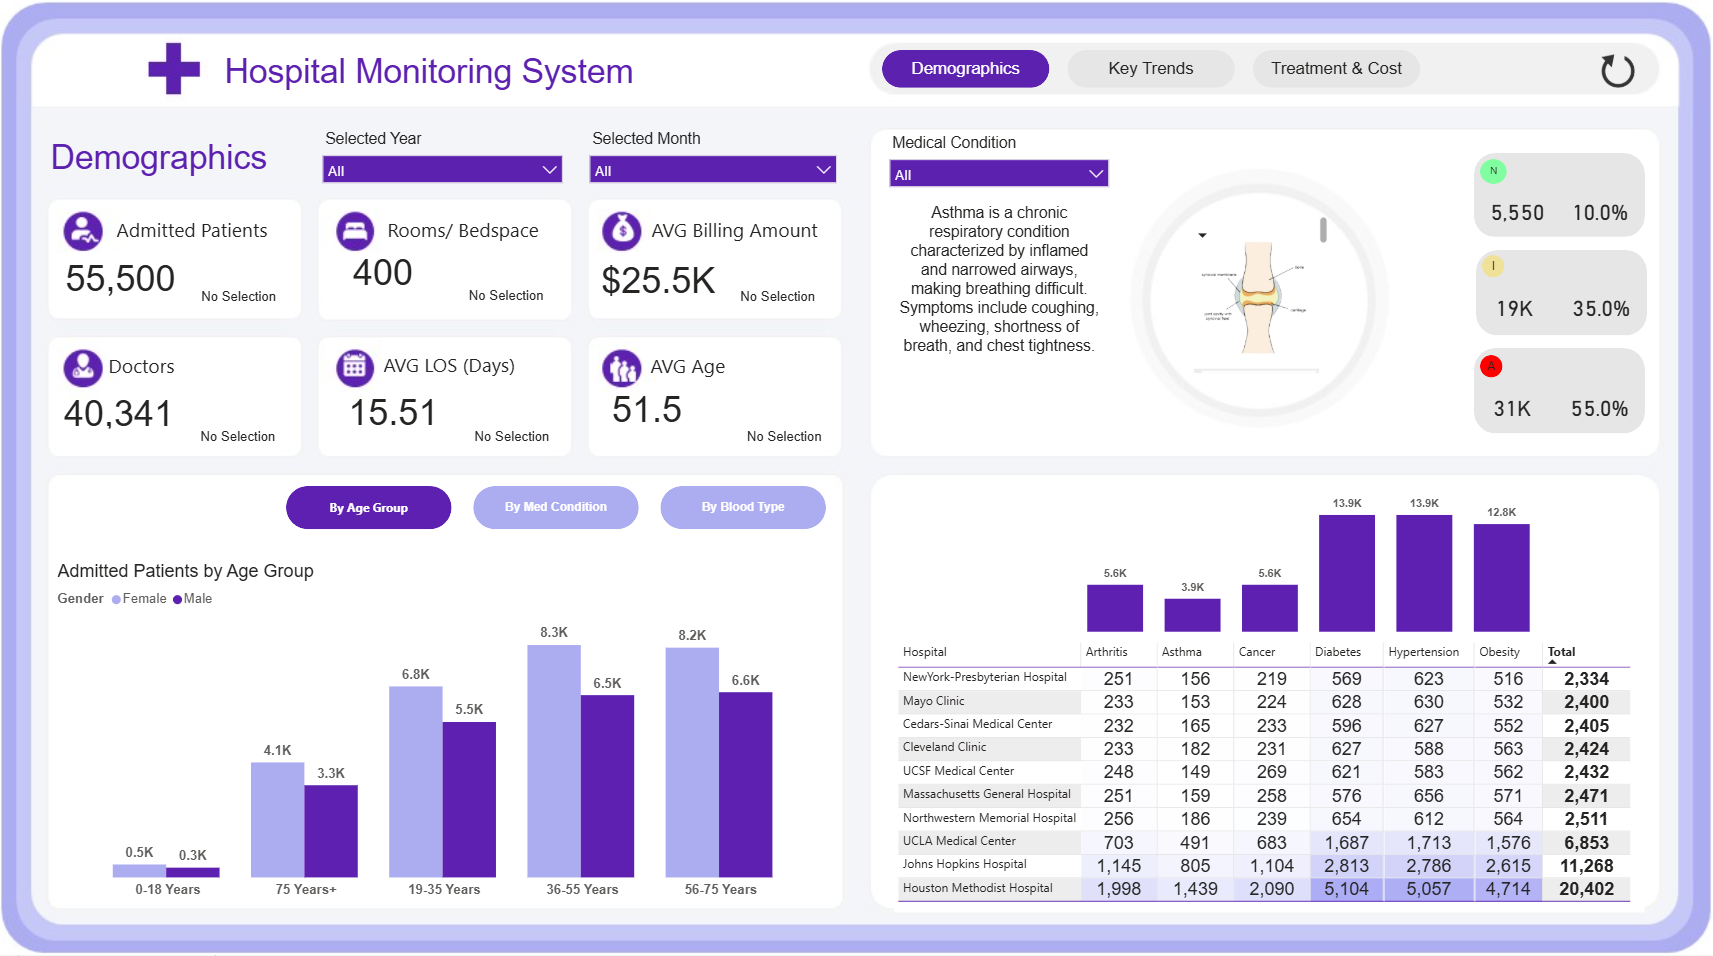

The page's visual inventory and layout, read from the dashboard file:
{"tool":"powerbi","page":{"name":"Demographics","canvas":[1920,1080],"ordinal":0},"visuals":[{"type":"card","fields":{"Values":["_DaxMeasures.Admitted Patients"]},"box":[55.7,281.4,174.3,68.6],"z":0},{"type":"shape","box":[1649,285.4,190,95],"z":0,"group":"g4"},{"type":"shape","box":[1646.7,394.2,190,95],"z":0,"group":"g5"},{"type":"textbox","box":[132.9,242.9,194.3,38.6],"z":1000},{"type":"group","id":"g1","title":"Group 2","box":[1655.9,288.3,25.6,28.1],"z":1000,"group":"g4"},{"type":"group","id":"g2","title":"Group 2","box":[1653.2,399.7,25.6,28.1],"z":1000,"group":"g5"},{"type":"textbox","box":[434.3,242.9,194.3,38.6],"z":2000},{"type":"textbox","box":[727.5,243.4,203.5,38.6],"z":3000},{"type":"textbox","box":[124.3,394.3,202.9,38.6],"z":4000},{"type":"textbox","box":[429.6,393.7,218.1,38.6],"z":5000},{"type":"textbox","box":[727.1,394.3,202.9,38.6],"z":6000},{"type":"slicer","fields":{"Values":["Dim_Date.Year"]},"box":[362,152.4,276.7,73.2],"z":7000},{"type":"slicer","fields":{"Values":["Dim_Date.Month Name"]},"box":[658.6,152.4,284.6,73.2],"z":8000},{"type":"slicer","fields":{"Values":["DimMedicalCondition.Medical Condition"]},"box":[992.2,156.9,254,73.2],"z":9000},{"type":"cardVisual","fields":{"Data":["Min(DimMedicalCondition.Descriptions)"]},"box":[992.2,214.1,254,295.3],"z":10000},{"type":"card","fields":{"Values":["_DaxMeasures.admission YoY"]},"box":[204.8,315.4,139.3,46.4],"z":11000},{"type":"card","fields":{"Values":["_DaxMeasures.Billing YoY"]},"box":[800.2,316.8,146.1,45.1],"z":12000},{"type":"card","fields":{"Values":["_DaxMeasures.AVG Billing Amount"]},"box":[652.7,279.9,176.2,75.1],"z":13000},{"type":"card","fields":{"Values":["_DaxMeasures.Room"]},"box":[356.4,279.9,155.7,57.4],"z":14000},{"type":"card","fields":{"Values":["_DaxMeasures.Room YoY"]},"box":[495.7,315.4,151.6,43.7],"z":15000},{"type":"card","fields":{"Values":["_DaxMeasures.Doctor"]},"box":[66.9,439.7,148.8,49.2],"z":16000},{"type":"card","fields":{"Values":["_DaxMeasures.Doctor YoY"]},"box":[202.1,479.3,142,30],"z":17000},{"type":"card","fields":{"Values":["_DaxMeasures.AVG LOS(Days)"]},"box":[363.2,434.3,165.2,60.1],"z":18000},{"type":"card","fields":{"Values":["_DaxMeasures.AVG Age"]},"box":[662.3,434.3,131.1,53.3],"z":19000},{"type":"card","fields":{"Values":["_DaxMeasures.AVG LOS (Days) YoY"]},"box":[512.1,479.3,131.1,30],"z":20000},{"type":"card","fields":{"Values":["_DaxMeasures.AVG age YoY"]},"box":[819.3,479.3,122.9,30],"z":21000},{"type":"pivotTable","fields":{"Rows":["HealthStateData.Hospital"],"Columns":["DimMedicalCondition.Medical Condition"],"Values":["_DaxMeasures.Admitted Patients"]},"box":[1002.5,716.2,833.8,305],"z":22000},{"type":"clusteredColumnChart","fields":{"Y":["_DaxMeasures.Admitted Patients"],"Category":["DimMedicalCondition.Medical Condition"]},"box":[1212.5,546.2,503.8,168.8],"z":23000},{"type":"clusteredColumnChart","title":"Admitted Patients by Age Group","fields":{"Category":["HealthStateData.Age Group"],"Y":["_DaxMeasures.Admitted Patients"],"Series":["HealthStateData.Gender"]},"box":[67.5,631.2,870,381.2],"z":26000},{"type":"bookmarkNavigator","box":[326.2,547.5,601.2,48.8],"z":27000},{"type":"group","id":"g3","title":"Group 1","box":[1646.7,178.2,190,93.5],"z":28000},{"type":"shape","box":[1653.7,185.6,29.8,27.8],"z":29000,"group":"g6"},{"type":"group","id":"g4","title":"Group 3","box":[1649,285.4,190,95],"z":29000},{"type":"shape","box":[1656.3,290.6,25,25],"z":29000,"group":"g1"},{"type":"shape","box":[1653.6,402,25,25],"z":29000,"group":"g2"},{"type":"shape","box":[1646.7,178.2,190,93.5],"z":30000,"group":"g3"},{"type":"group","id":"g5","title":"Group 3","box":[1646.7,394.2,190,95],"z":30000},{"type":"textbox","box":[60,157.1,295.7,57.1],"z":31000},{"type":"pageNavigator","box":[988.6,62.9,600,42.9],"z":32000},{"type":"textbox","box":[1653.2,183.1,30.1,30.9],"z":32000,"group":"g6"},{"type":"textbox","box":[1655.9,288.3,25.2,27.8],"z":32000,"group":"g1"},{"type":"textbox","box":[1653.2,399.7,25.2,27.8],"z":32000,"group":"g2"},{"type":"group","id":"g6","title":"Group 2","box":[1653.2,183.1,30.6,30.6],"z":32500,"group":"g3"},{"type":"textbox","box":[252.9,61.4,488.6,57.1],"z":33000},{"type":"image","box":[1772.9,62.9,67.1,47.1],"z":34000},{"type":"tableEx","fields":{"Values":["Medical Conditions Photos.Images"]},"box":[1328.7,243.4,159.6,183.5],"z":35000},{"type":"card","fields":{"Values":["_DaxMeasures.Abnormal"]},"box":[1646.6,437.6,85.1,46.6],"z":36000},{"type":"card","fields":{"Values":["_DaxMeasures.Abnormal %"]},"box":[1739.7,437.6,97.1,46.6],"z":37000},{"type":"card","fields":{"Values":["_DaxMeasures.Inconclusive"]},"box":[1648.6,326.6,85.1,46.6],"z":38000},{"type":"card","fields":{"Values":["_DaxMeasures.Inconclusive %"]},"box":[1745.7,326.6,85.1,46.6],"z":39000},{"type":"card","fields":{"Values":["_DaxMeasures.Normal Patient"]},"box":[1649.3,219.5,91.8,46.6],"z":40000},{"type":"card","fields":{"Values":["_DaxMeasures.Normal %"]},"box":[1739.7,219.5,93.1,46.6],"z":41000}]}

Visuals, with their boxes in screenshot pixels (x1, y1, x2, y2), scaled from the page's 1920x1080 canvas onto the 1713x956 screenshot:
card - _DaxMeasures.Admitted Patients: l=50, t=249, r=205, b=310
shape: l=1471, t=253, r=1641, b=337
shape: l=1469, t=349, r=1639, b=433
textbox: l=119, t=215, r=292, b=249
"Group 2" group: l=1477, t=255, r=1500, b=280
"Group 2" group: l=1475, t=354, r=1498, b=379
textbox: l=387, t=215, r=561, b=249
textbox: l=649, t=215, r=831, b=250
textbox: l=111, t=349, r=292, b=383
textbox: l=383, t=348, r=578, b=383
textbox: l=649, t=349, r=830, b=383
slicer - Dim_Date.Year: l=323, t=135, r=570, b=200
slicer - Dim_Date.Month Name: l=588, t=135, r=842, b=200
slicer - DimMedicalCondition.Medical Condition: l=885, t=139, r=1112, b=204
cardVisual - Min(DimMedicalCondition.Descriptions): l=885, t=190, r=1112, b=451
card - _DaxMeasures.admission YoY: l=183, t=279, r=307, b=320
card - _DaxMeasures.Billing YoY: l=714, t=280, r=844, b=320
card - _DaxMeasures.AVG Billing Amount: l=582, t=248, r=740, b=314
card - _DaxMeasures.Room: l=318, t=248, r=457, b=299
card - _DaxMeasures.Room YoY: l=442, t=279, r=578, b=318
card - _DaxMeasures.Doctor: l=60, t=389, r=192, b=433
card - _DaxMeasures.Doctor YoY: l=180, t=424, r=307, b=451
card - _DaxMeasures.AVG LOS(Days): l=324, t=384, r=471, b=438
card - _DaxMeasures.AVG Age: l=591, t=384, r=708, b=432
card - _DaxMeasures.AVG LOS (Days) YoY: l=457, t=424, r=574, b=451
card - _DaxMeasures.AVG age YoY: l=731, t=424, r=841, b=451
pivotTable - HealthStateData.Hospital x DimMedicalCondition.Medical Condition: l=894, t=634, r=1638, b=904
clusteredColumnChart - _DaxMeasures.Admitted Patients x DimMedicalCondition.Medical Condition: l=1082, t=483, r=1531, b=633
"Admitted Patients by Age Group" clusteredColumnChart: l=60, t=559, r=836, b=896
bookmarkNavigator: l=291, t=485, r=827, b=528
"Group 1" group: l=1469, t=158, r=1639, b=241
shape: l=1475, t=164, r=1502, b=189
"Group 3" group: l=1471, t=253, r=1641, b=337
shape: l=1478, t=257, r=1500, b=279
shape: l=1475, t=356, r=1498, b=378
shape: l=1469, t=158, r=1639, b=241
"Group 3" group: l=1469, t=349, r=1639, b=433
textbox: l=54, t=139, r=317, b=190
pageNavigator: l=882, t=56, r=1417, b=94
textbox: l=1475, t=162, r=1502, b=189
textbox: l=1477, t=255, r=1500, b=280
textbox: l=1475, t=354, r=1497, b=378
"Group 2" group: l=1475, t=162, r=1502, b=189
textbox: l=226, t=54, r=662, b=105
image: l=1582, t=56, r=1642, b=97
tableEx - Medical Conditions Photos.Images: l=1185, t=215, r=1328, b=378
card - _DaxMeasures.Abnormal: l=1469, t=387, r=1545, b=429
card - _DaxMeasures.Abnormal %: l=1552, t=387, r=1639, b=429
card - _DaxMeasures.Inconclusive: l=1471, t=289, r=1547, b=330
card - _DaxMeasures.Inconclusive %: l=1557, t=289, r=1633, b=330
card - _DaxMeasures.Normal Patient: l=1471, t=194, r=1553, b=236
card - _DaxMeasures.Normal %: l=1552, t=194, r=1635, b=236
